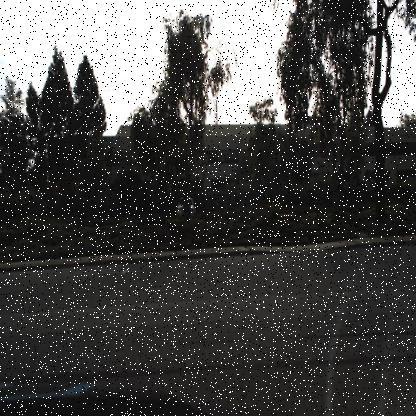car: (175, 192, 195, 221)
